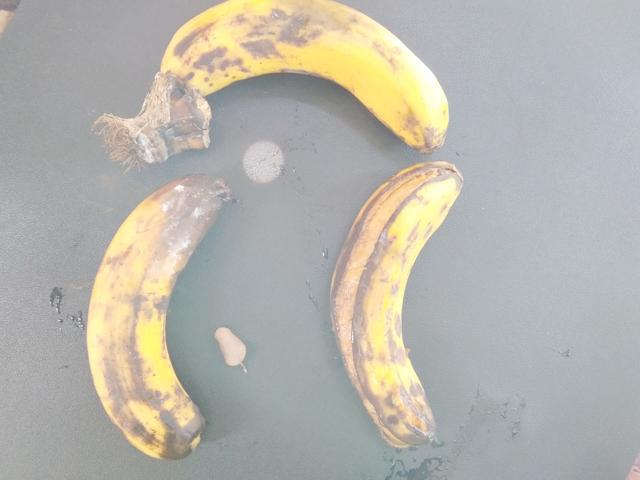overripe: (147, 0, 447, 152)
rotten: (305, 141, 476, 479), (72, 168, 243, 463)
